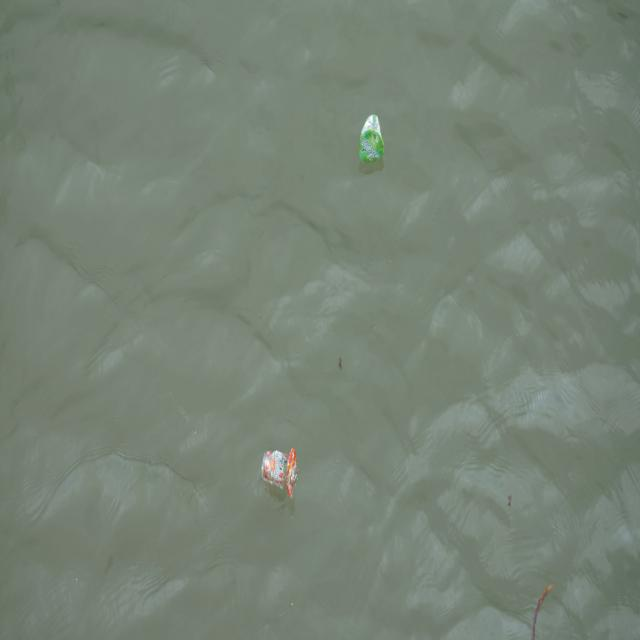Bungkus Minuman: (260, 440, 303, 505), (359, 109, 389, 175)
